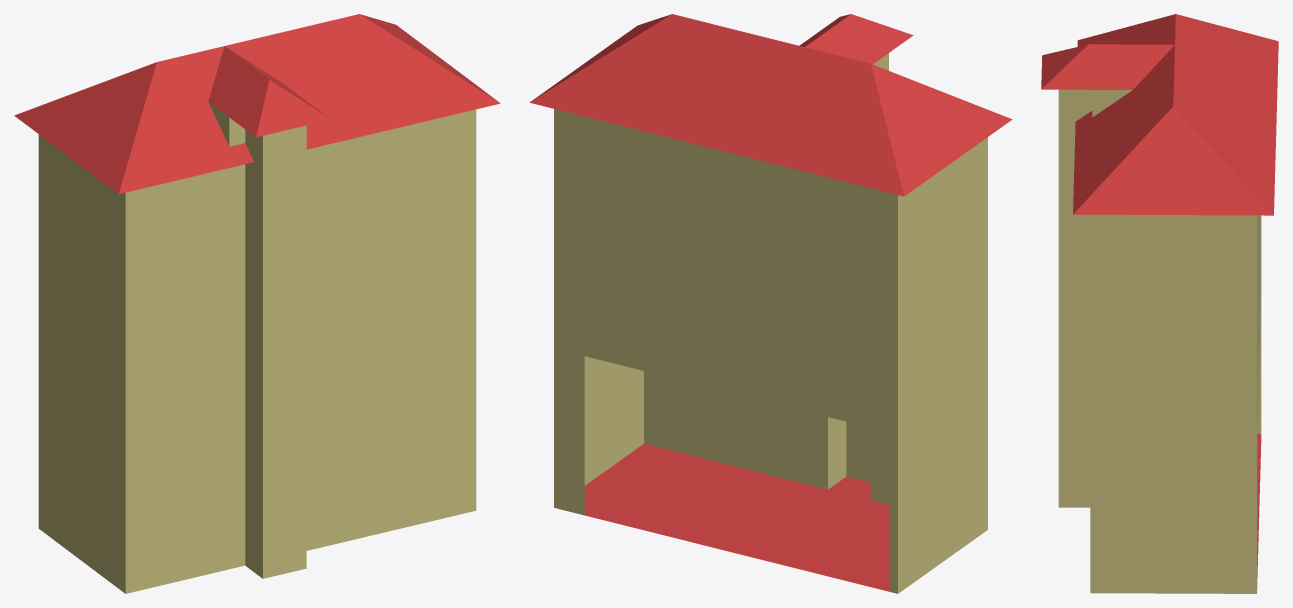
3 views of the same model, side by side, from view 1: azimuth 30°, elevation 25°; view 2: azimuth 150°, elevation 25°; view 3: azimuth 270°, elevation 25° (orthographic). The views are drawn at different scales.
Visible parts, largest first — view 1: group_5, group_3, group_9, group_7, group_8, group_4; view 2: group_5, group_3, group_6, group_4, group_7, group_9, group_8; view 3: group_5, group_3, group_9, group_7, group_4, group_6.
Boxes of the visible parts, x1=… form: group_5: x1=38, y1=109, x2=476, y2=593; group_3: x1=14, y1=14, x2=500, y2=193; group_9: x1=208, y1=102, x2=306, y2=578; group_7: x1=208, y1=46, x2=330, y2=137; group_8: x1=230, y1=101, x2=329, y2=136; group_4: x1=16, y1=24, x2=495, y2=193; group_5: x1=554, y1=109, x2=987, y2=593; group_3: x1=530, y1=14, x2=1011, y2=196; group_6: x1=584, y1=444, x2=889, y2=591; group_4: x1=530, y1=27, x2=1010, y2=195; group_7: x1=799, y1=14, x2=900, y2=64; group_9: x1=837, y1=53, x2=888, y2=482; group_8: x1=871, y1=26, x2=913, y2=54; group_5: x1=1075, y1=214, x2=1261, y2=593; group_3: x1=1073, y1=14, x2=1278, y2=215; group_9: x1=1058, y1=89, x2=1132, y2=507; group_7: x1=1041, y1=44, x2=1174, y2=89; group_4: x1=1073, y1=39, x2=1278, y2=215; group_6: x1=1257, y1=434, x2=1261, y2=577.
Size of the model in its own units: 18.2 by 10.42 by 21.96.
